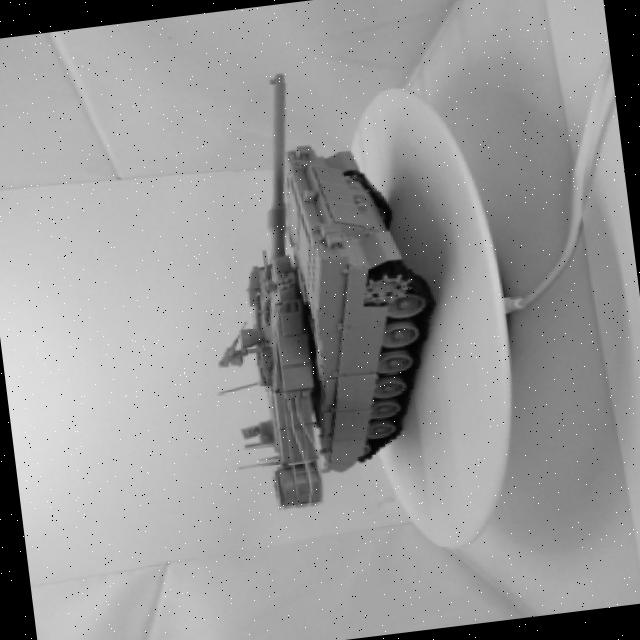korea tank: (164, 28, 468, 530)
